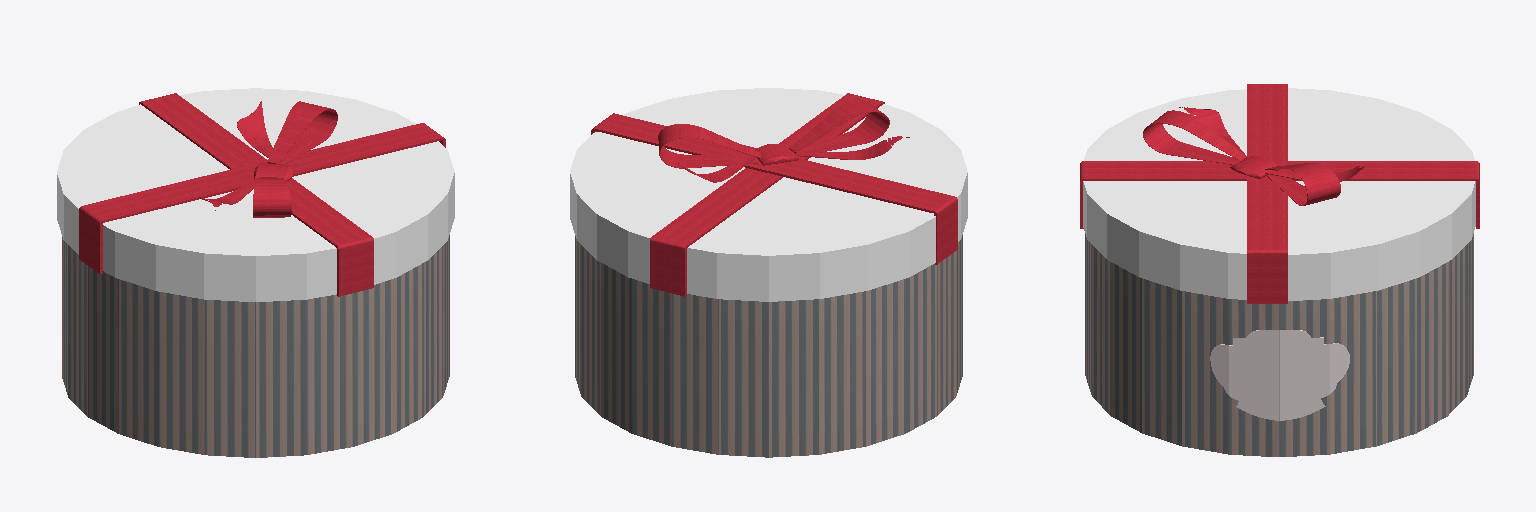
The picture shows the model from 3 angles: view 1: azimuth 30°, elevation 25°; view 2: azimuth 150°, elevation 25°; view 3: azimuth 270°, elevation 25°; orthographic projection.
Visible parts, largest first — view 1: Mesh5_Group7_Group3_Group1_Groupe_25_1_Model; view 2: Mesh5_Group7_Group3_Group1_Groupe_25_1_Model; view 3: Mesh5_Group7_Group3_Group1_Groupe_25_1_Model.
Part boxes in pixels (left/top/right/bottom): Mesh5_Group7_Group3_Group1_Groupe_25_1_Model: left=57, top=88, right=454, bottom=457; Mesh5_Group7_Group3_Group1_Groupe_25_1_Model: left=570, top=88, right=967, bottom=457; Mesh5_Group7_Group3_Group1_Groupe_25_1_Model: left=1080, top=84, right=1479, bottom=456.
Bounding box in the file's own units: 1.5 × 0.9931 × 1.5.
Materials: 4 (2 with a texture image).